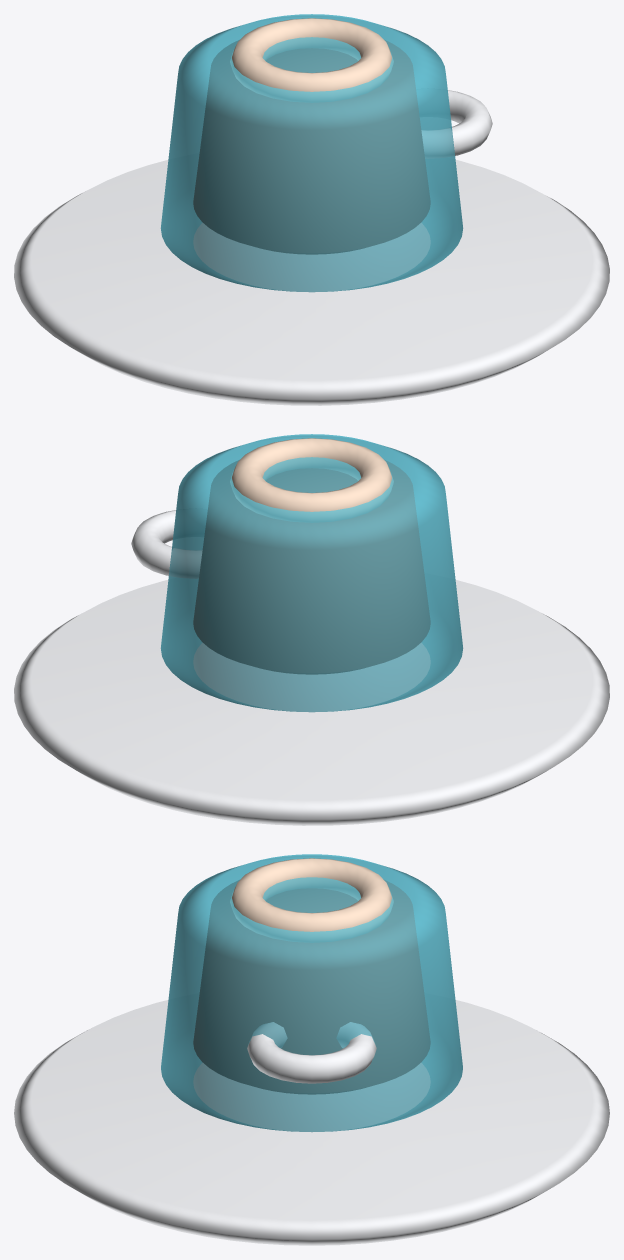
Rendered from latte.glb.
The picture shows the model from 3 angles, top to bottom: view 1: azimuth 30°, elevation 25°; view 2: azimuth 150°, elevation 25°; view 3: azimuth 270°, elevation 25°; orthographic projection.
Parts seen in each view (by area): view 1: saucer, cup, coffee, foam, handle; view 2: saucer, cup, coffee, foam, handle; view 3: saucer, cup, coffee, foam, handle.
Part boxes in pixels (<box>): saucer: <box>14,160,609,405</box>; cup: <box>160,14,463,292</box>; coffee: <box>193,40,430,254</box>; foam: <box>230,18,393,102</box>; handle: <box>421,90,492,158</box>; saucer: <box>14,580,609,825</box>; cup: <box>160,434,463,712</box>; coffee: <box>193,460,430,674</box>; foam: <box>230,438,393,522</box>; handle: <box>131,510,202,578</box>; saucer: <box>14,1000,609,1245</box>; cup: <box>161,854,462,1132</box>; coffee: <box>193,880,430,1094</box>; foam: <box>230,858,393,942</box>; handle: <box>247,1022,376,1083</box>.
Size of the model in its own units: 2.76 by 1.24 by 2.76.
